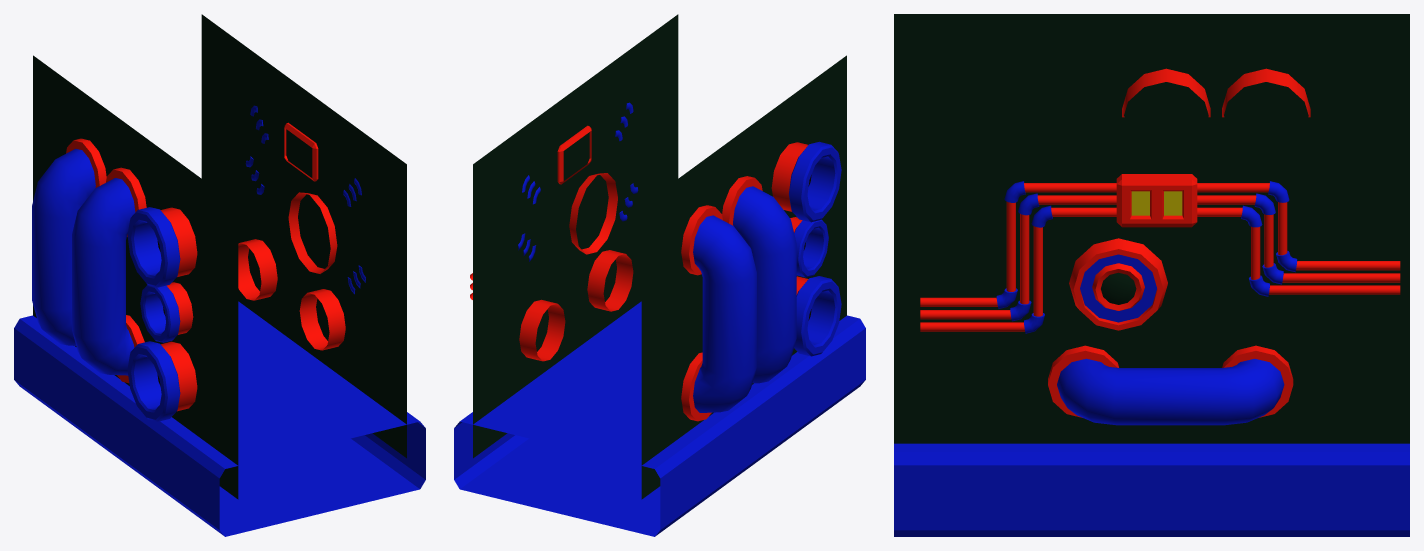
File: OBJ_Mur_Cube.fbx
3 renders of one model, left to right at view 1: azimuth 30°, elevation 25°; view 2: azimuth 150°, elevation 25°; view 3: azimuth 270°, elevation 25°, orthographic. The views are drawn at different scales.
Visible parts, largest first — view 1: Mur_cube_1_VAR001; view 2: Mur_cube_1_VAR001; view 3: Mur_cube_1_VAR001.
Boxes of the visible parts, x1=… form: Mur_cube_1_VAR001: x1=14, y1=14, x2=425, y2=536; Mur_cube_1_VAR001: x1=454, y1=14, x2=865, y2=536; Mur_cube_1_VAR001: x1=894, y1=14, x2=1409, y2=536.
Bounding box in the file's own units: 17.23 × 19.95 × 22.65.
